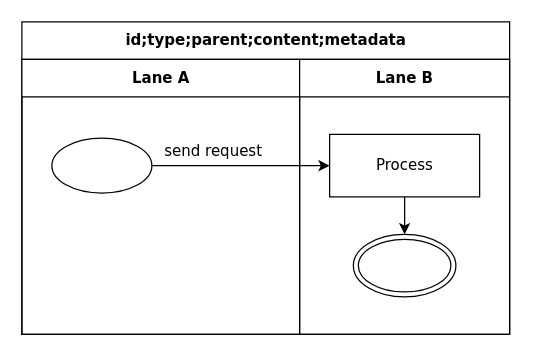
The diagram is 533 pixels wide and 356 high, and some of its shapes have lost their labels. Here are the shapes that lost their labels. From the top down, the centre of each, then its label:
At pixel 101 165: "Start".
At pixel 404 265: "Done".
